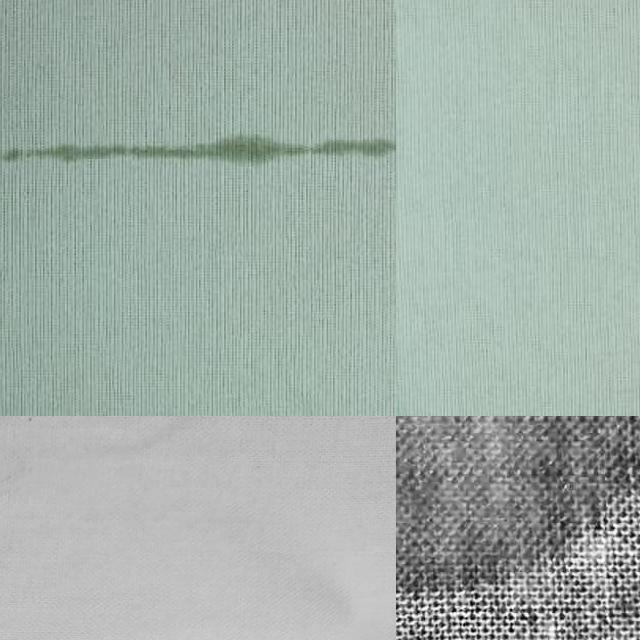Hole: (0, 61, 396, 249), (396, 416, 640, 619)
